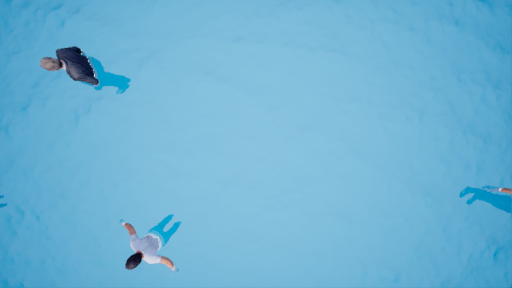person: (40, 43, 145, 102), (117, 205, 191, 276), (455, 169, 512, 218)
